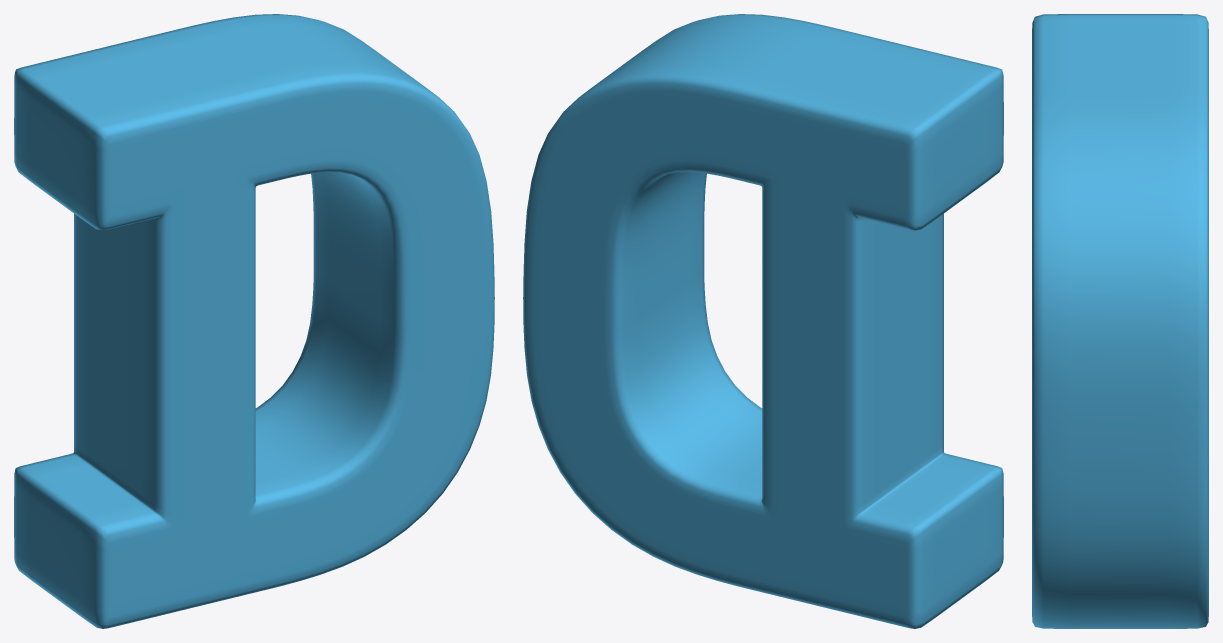
File: D-CGZxN961.glb
3 views of the same model, side by side, from view 1: azimuth 30°, elevation 25°; view 2: azimuth 150°, elevation 25°; view 3: azimuth 270°, elevation 25° (orthographic).
Parts seen in each view (by area): view 1: D; view 2: D; view 3: D.
Part boxes in pixels (<box>): D: <box>14,14,494,628</box>; D: <box>523,14,1003,628</box>; D: <box>1032,14,1208,628</box>.
Bounding box in the file's own units: 1.02 × 1.23 × 0.4.
